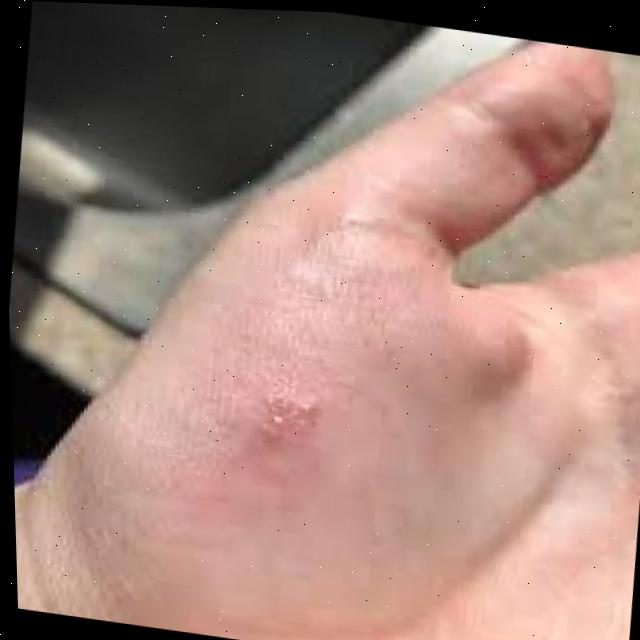Eczema: (224, 332, 361, 490), (525, 68, 586, 142)
